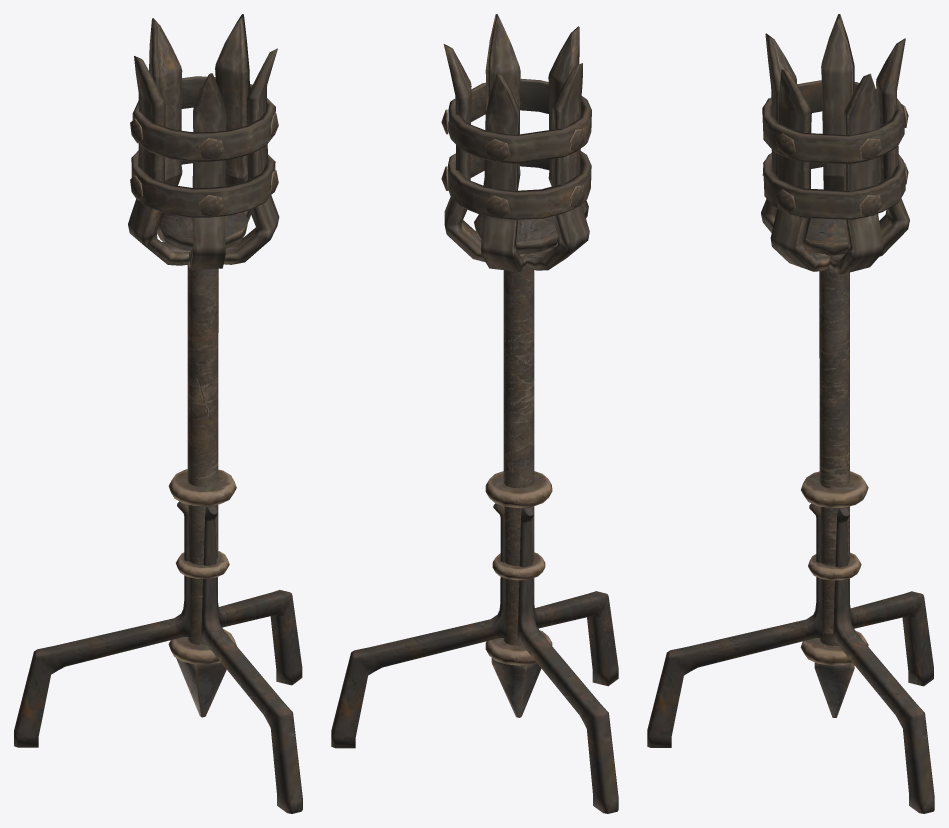
3 renders of one model, left to right at view 1: azimuth 30°, elevation 25°; view 2: azimuth 150°, elevation 25°; view 3: azimuth 270°, elevation 25°, orthographic.
Visible parts, largest first — view 1: SM_Floor_Torch_02_LOD0; view 2: SM_Floor_Torch_02_LOD0; view 3: SM_Floor_Torch_02_LOD0.
Boxes of the visible parts, x1,y1,x2,y2 form: SM_Floor_Torch_02_LOD0: (14, 14, 302, 813); SM_Floor_Torch_02_LOD0: (331, 14, 618, 813); SM_Floor_Torch_02_LOD0: (647, 14, 934, 813).
Size of the model in its own units: 0.6998 by 1.63 by 0.6096.
2 materials, 2 textured.
